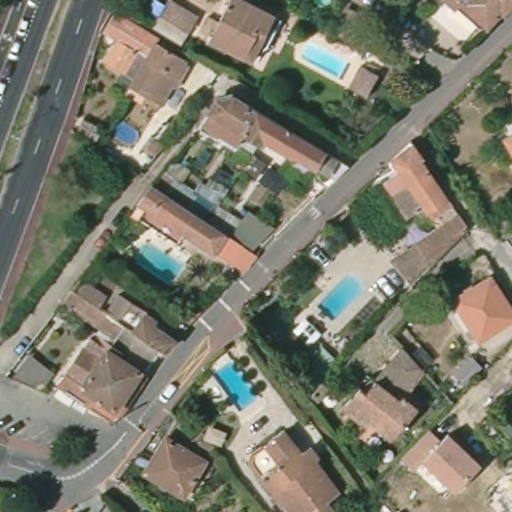pool: (126, 232, 185, 289), (209, 355, 264, 409), (314, 273, 366, 321), (296, 39, 354, 82), (106, 121, 143, 148)
